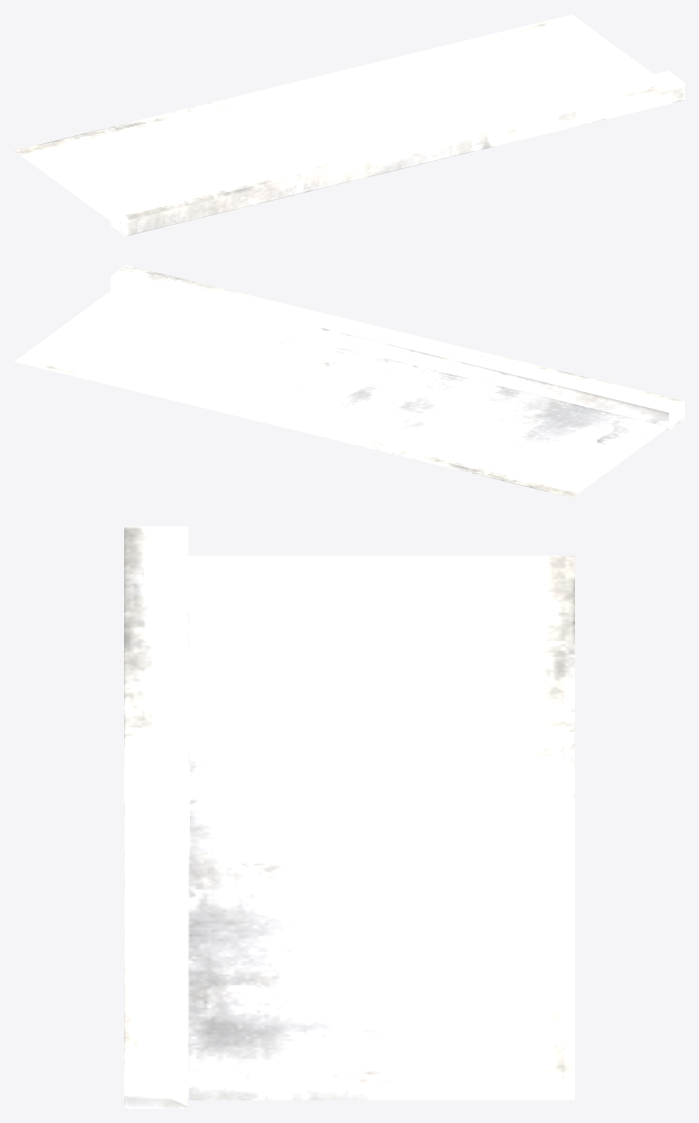
3 views of the same model, one above another, from view 1: azimuth 30°, elevation 25°; view 2: azimuth 150°, elevation 25°; view 3: azimuth 270°, elevation 25° (orthographic). The views are drawn at different scales.
Visible parts, largest first — view 1: S_B_7; view 2: S_B_7; view 3: S_B_7.
Part boxes in pixels (x1,y1,x2,y2): S_B_7: (14,14,684,236); S_B_7: (14,265,684,497); S_B_7: (124,526,574,1108).
Bounding box in the file's own units: 516 × 16.58 × 181.
Materials: 1 (1 with a texture image).
